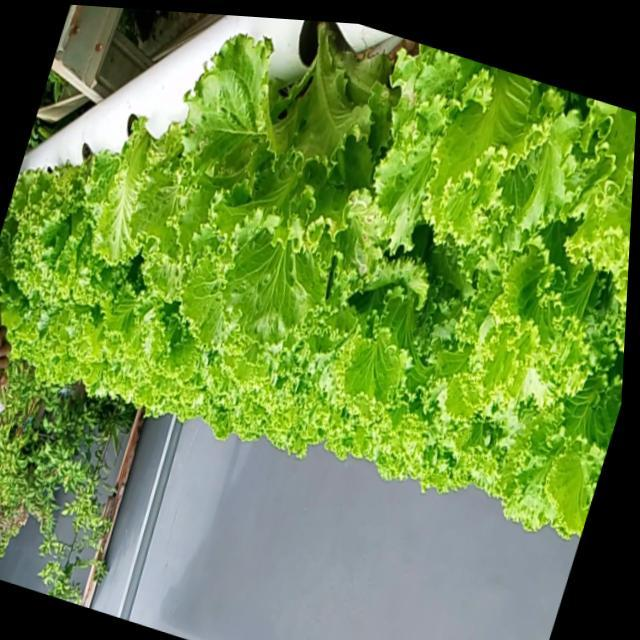Mature: (0, 22, 636, 542), (201, 36, 413, 337), (0, 139, 169, 344)
